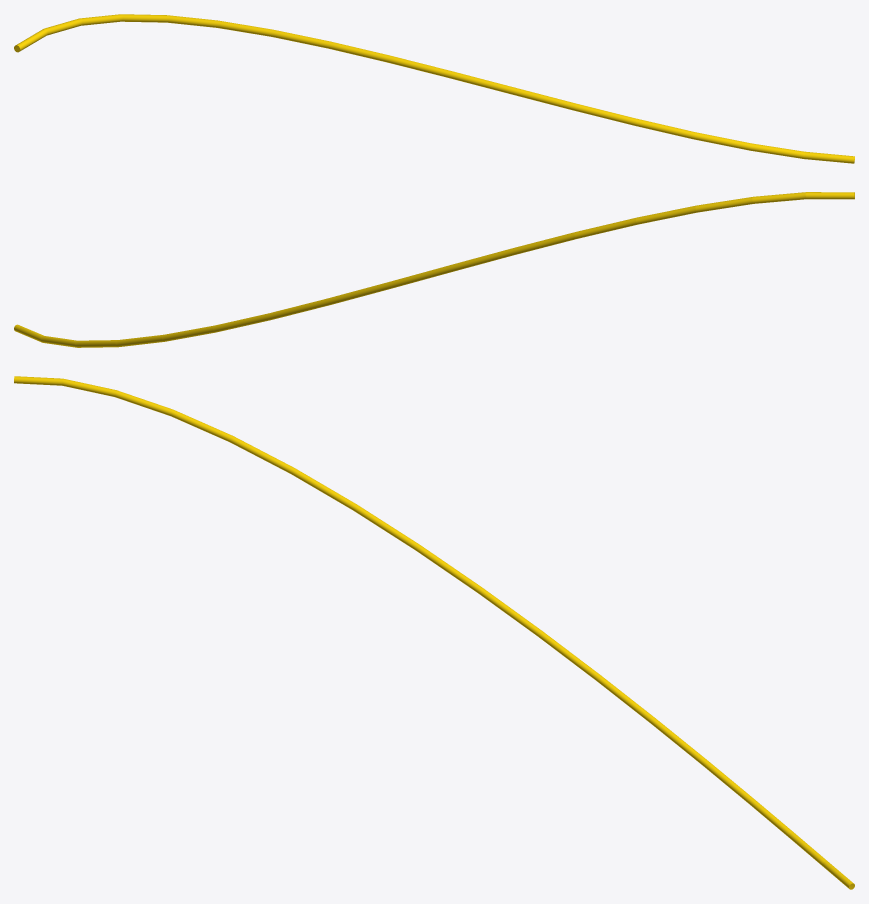
File: Event_420107950_track_72.fbx
The picture shows the model from 3 angles, top to bottom: view 1: azimuth 30°, elevation 25°; view 2: azimuth 150°, elevation 25°; view 3: azimuth 330°, elevation 25°; orthographic projection. The views are drawn at different scales.
Parts seen in each view (by area): view 1: Model; view 2: Model; view 3: Model.
Boxes of the visible parts, x1,y1,x2,y2 form: Model: [14, 14, 854, 163]; Model: [14, 192, 854, 347]; Model: [14, 376, 854, 889].
Size of the model in its own units: 5.27 by 2 by 0.6549.
